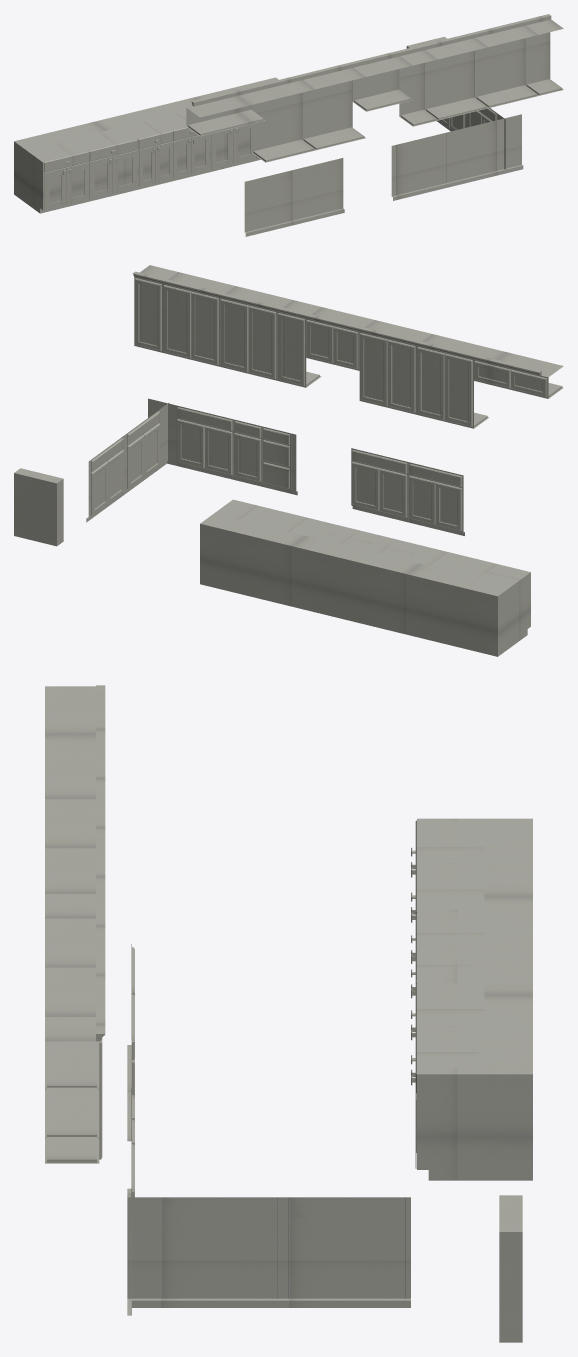
Rendered from 1860_kitchen_cabinets_bolder.gltf.
3 renders of one model, top to bottom at view 1: azimuth 30°, elevation 25°; view 2: azimuth 150°, elevation 25°; view 3: azimuth 270°, elevation 25°, orthographic. The views are drawn at different scales.
Visible parts, largest first — view 1: Kitchen Cabinets Bolder; view 2: Kitchen Cabinets Bolder; view 3: Kitchen Cabinets Bolder.
Boxes of the visible parts, x1,y1,x2,y2 form: Kitchen Cabinets Bolder: [14, 14, 563, 236]; Kitchen Cabinets Bolder: [14, 265, 563, 656]; Kitchen Cabinets Bolder: [45, 685, 532, 1342].
Size of the model in its own units: 8.5 by 2.93 by 4.2.
1 material, 1 textured.
